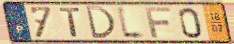0: (176, 6, 205, 40)
7: (29, 6, 54, 40)
D: (84, 5, 117, 40)
F: (143, 6, 173, 39)
L: (115, 4, 149, 41)
T: (58, 7, 83, 38)
